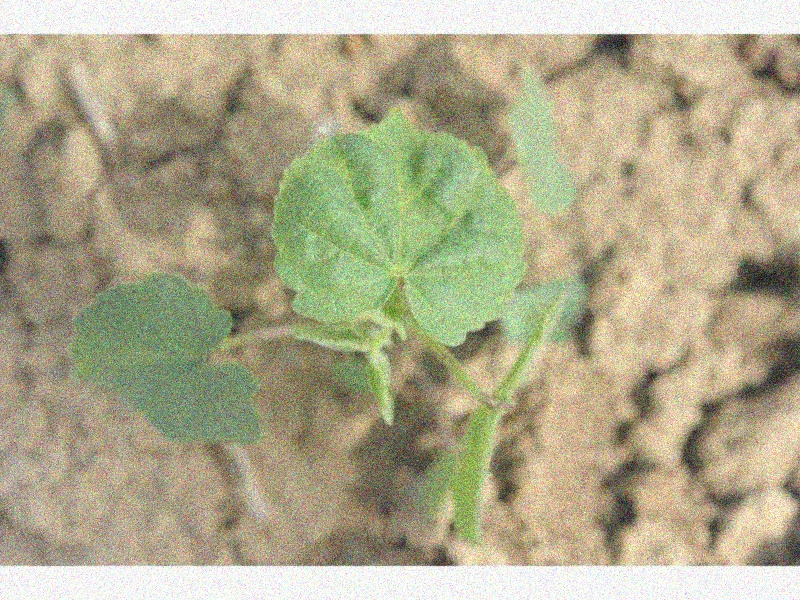velvet: (73, 67, 575, 538)
